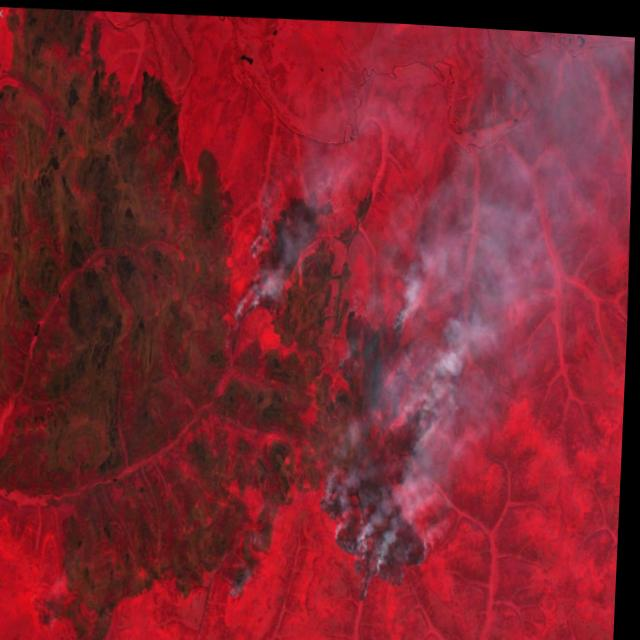fire: (224, 194, 287, 328), (217, 555, 257, 610), (301, 168, 339, 219)
